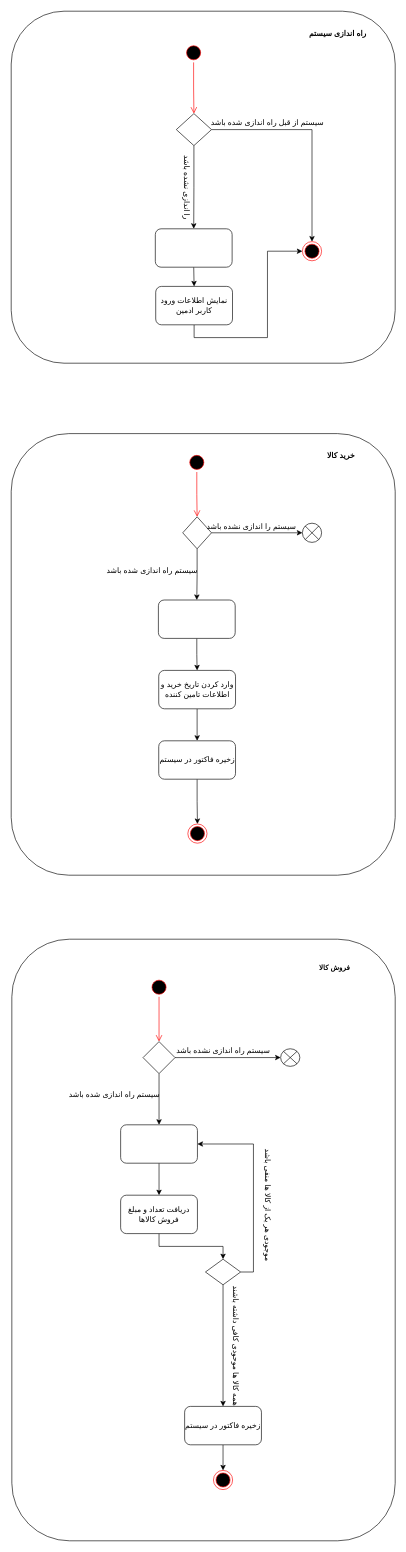
Image size: 406x1552. Some labels were removed from this diagram. Each missing label, with the centre of its shape:
دریافت اطلاعات فروشگاه: (193,247)
دریافت تاریخ فروش و اطلاعات مشتری: (158,1143)
وارد کردن تعداد و قیمت خرید کالا های مورد نیاز: (196,618)
